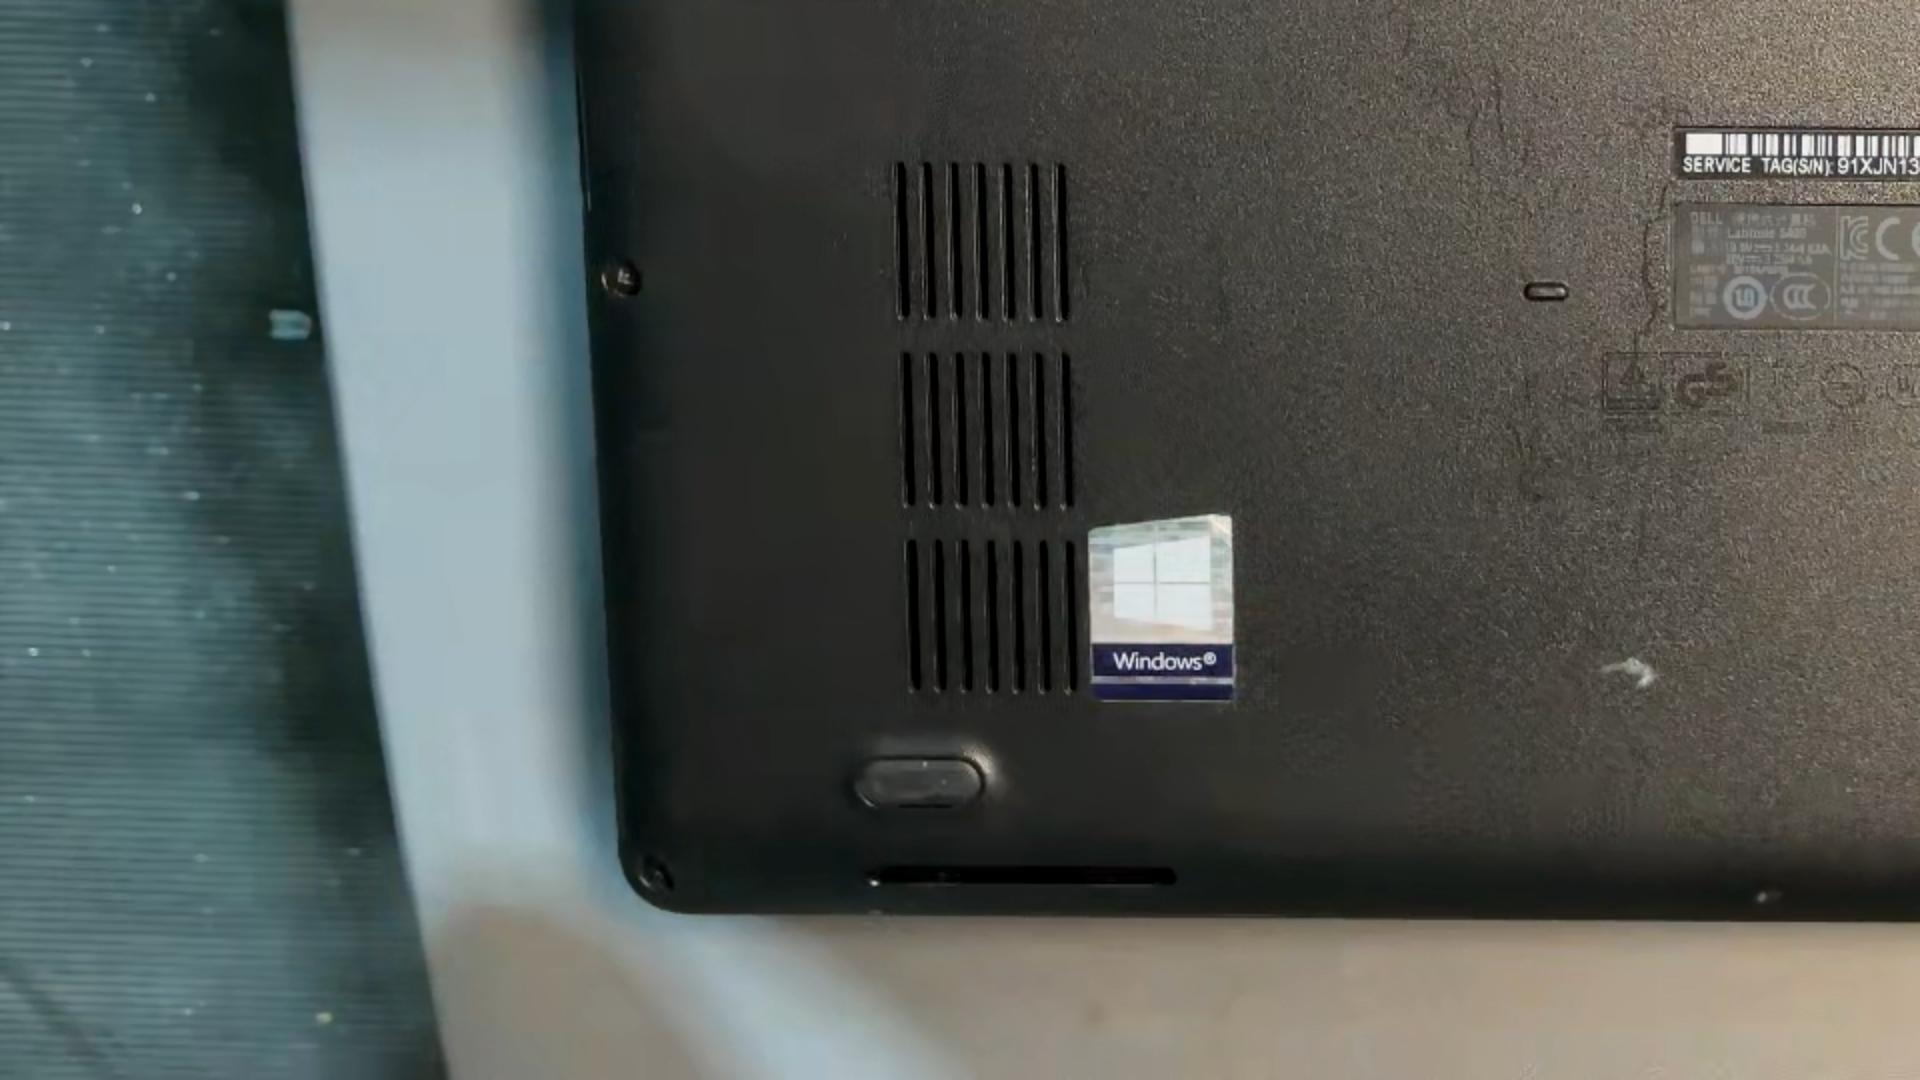scratches: (1622, 177, 1671, 381), (1489, 58, 1515, 156), (1596, 655, 1658, 691), (1464, 100, 1486, 169)
